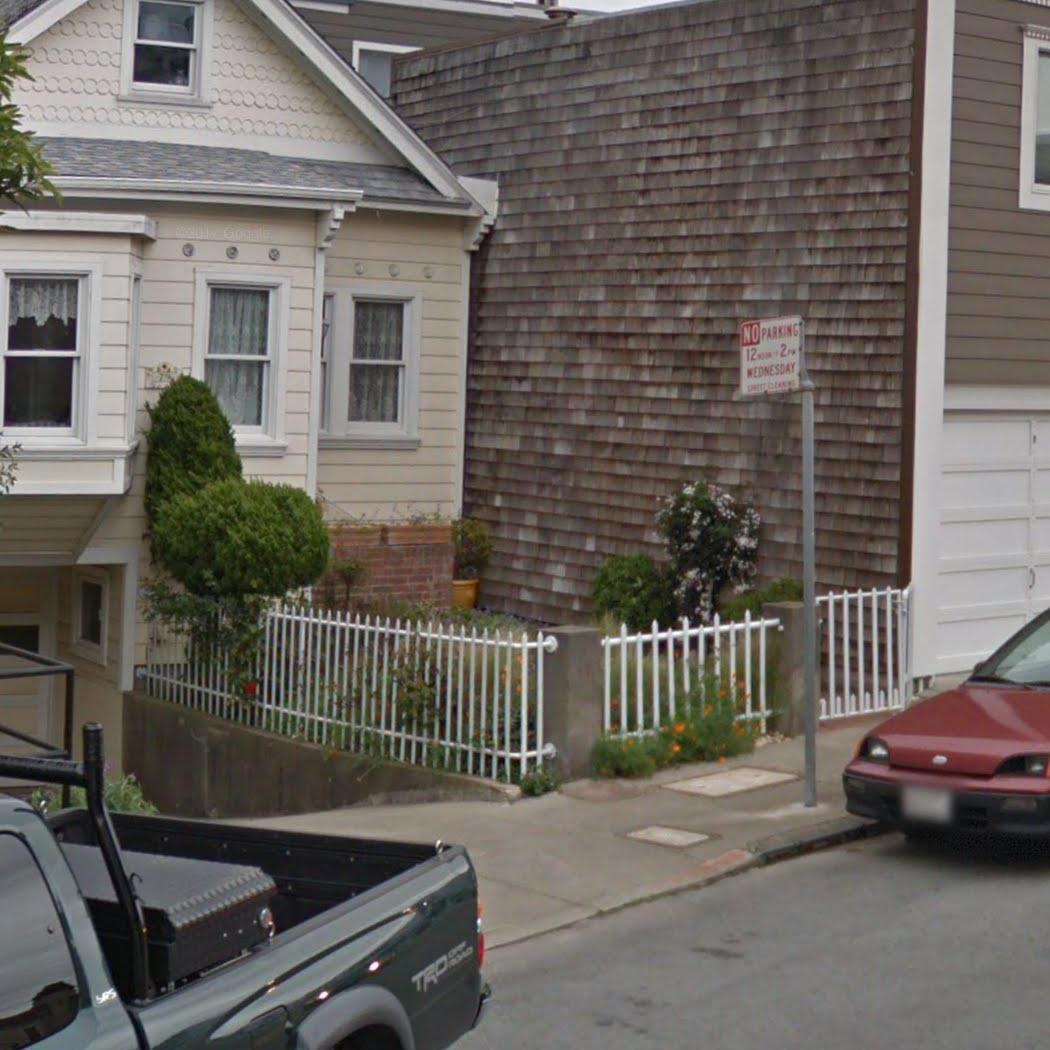No Parking: (732, 311, 807, 401)
